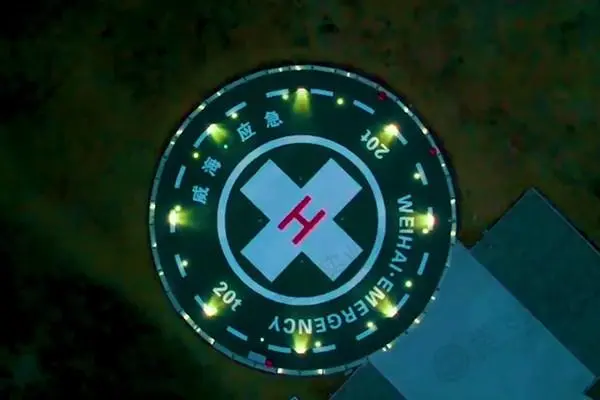Apron: (216, 133, 388, 307)
